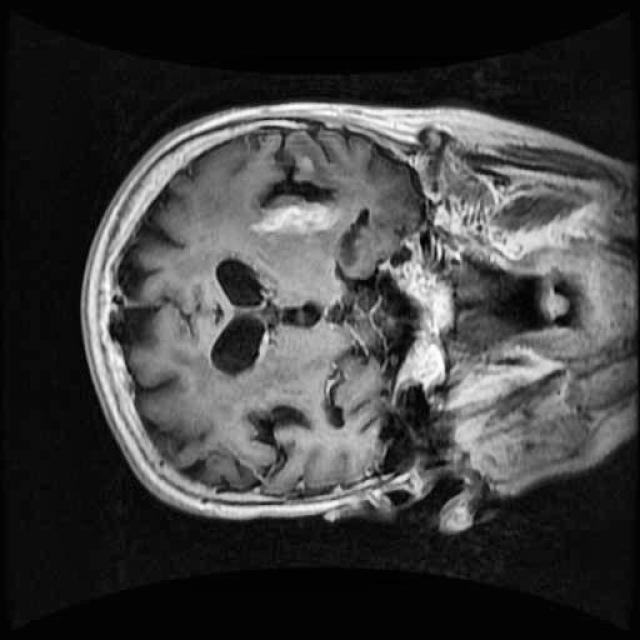Tumor: (230, 176, 356, 268)
